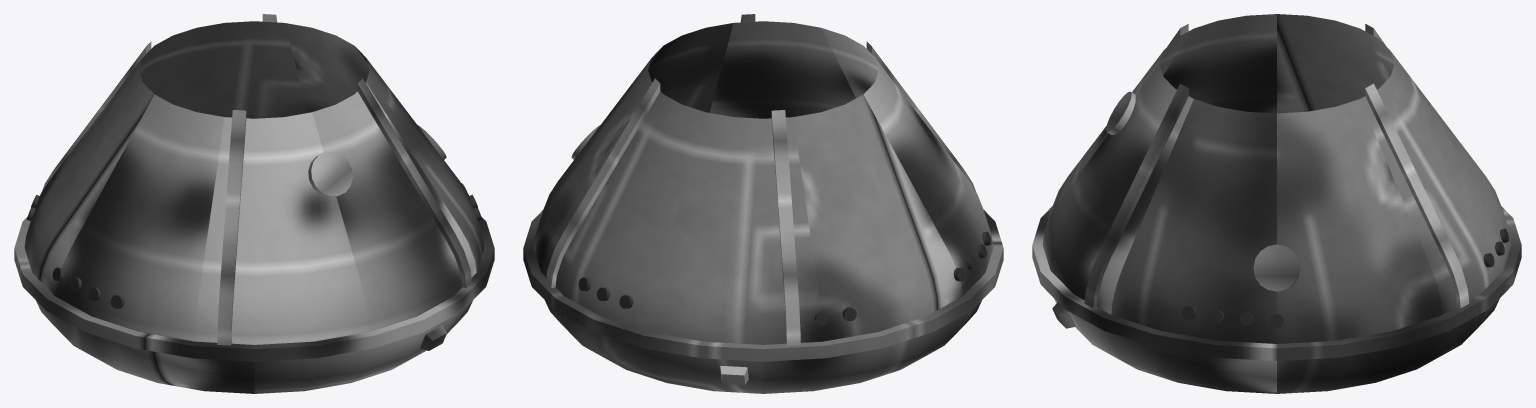
File: 4mv_avionics_s0_1_hollow.obj
3 views of the same model, side by side, from view 1: azimuth 30°, elevation 25°; view 2: azimuth 150°, elevation 25°; view 3: azimuth 270°, elevation 25° (orthographic).
Parts seen in each view (by area): view 1: mesh1; view 2: mesh1; view 3: mesh1.
Part boxes in pixels (box(x1,y1,x2,y2)): mesh1: box(14, 14, 494, 393); mesh1: box(523, 14, 1003, 393); mesh1: box(1032, 14, 1521, 393).
Size of the model in its own units: 1.3 by 0.7729 by 1.3.
